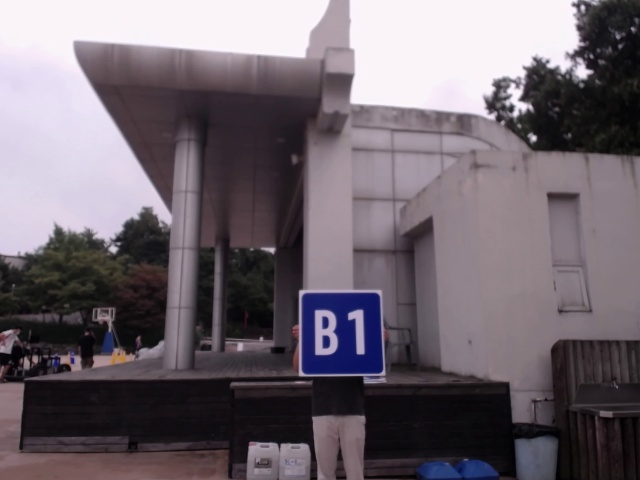delivery_b1: (299, 290, 385, 376)
